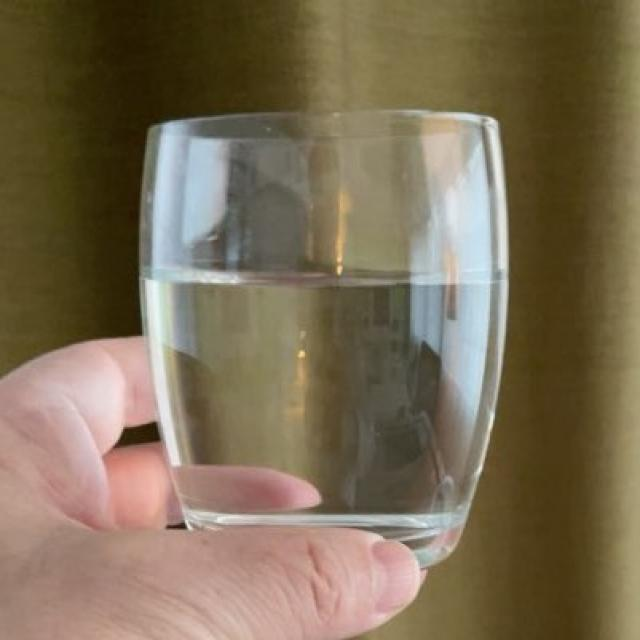water: (142, 262, 511, 519), (138, 273, 502, 528), (135, 267, 497, 512)
